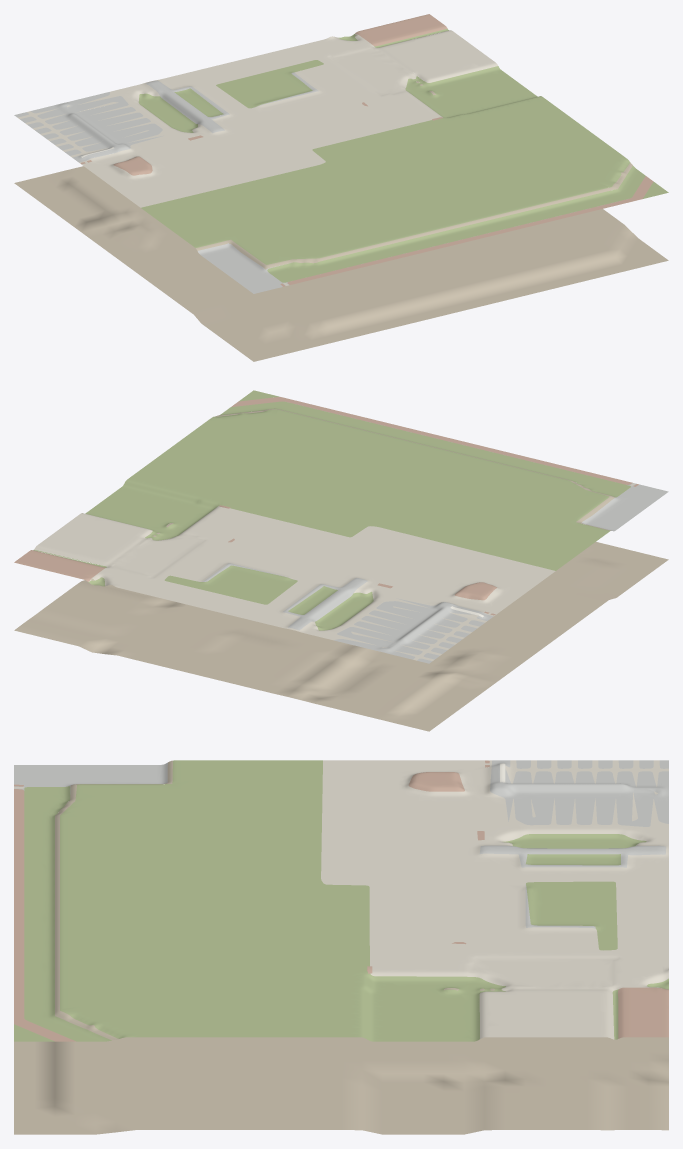
3 views of the same model, one above another, from view 1: azimuth 30°, elevation 25°; view 2: azimuth 150°, elevation 25°; view 3: azimuth 270°, elevation 25° (orthographic). The views are drawn at different scales.
Parts seen in each view (by area): view 1: s_0_3__grass, s_0_3__soil, s_0_3__paving, s_0_3__stone_paving, s_0_3__brick_paving; view 2: s_0_3__grass, s_0_3__soil, s_0_3__paving, s_0_3__stone_paving, s_0_3__brick_paving; view 3: s_0_3__grass, s_0_3__soil, s_0_3__paving, s_0_3__stone_paving, s_0_3__brick_paving.
Part boxes in pixels (x1=…): s_0_3__grass: x1=138, y1=28, x2=668, y2=282; s_0_3__soil: x1=14, y1=34, x2=668, y2=361; s_0_3__paving: x1=18, y1=30, x2=497, y2=285; s_0_3__stone_paving: x1=14, y1=72, x2=318, y2=293; s_0_3__brick_paving: x1=81, y1=14, x2=653, y2=286; s_0_3__grass: x1=33, y1=390, x2=630, y2=630; s_0_3__soil: x1=14, y1=408, x2=668, y2=731; s_0_3__paving: x1=34, y1=483, x2=635, y2=660; s_0_3__stone_paving: x1=202, y1=483, x2=668, y2=663; s_0_3__brick_paving: x1=14, y1=397, x2=638, y2=615; s_0_3__grass: x1=14, y1=760, x2=668, y2=1041; s_0_3__soil: x1=14, y1=760, x2=668, y2=1134; s_0_3__paving: x1=14, y1=760, x2=668, y2=1039; s_0_3__stone_paving: x1=14, y1=760, x2=668, y2=928; s_0_3__brick_paving: x1=14, y1=760, x2=668, y2=1041.
Size of the model in its own units: 128 by 22.01 by 128.
